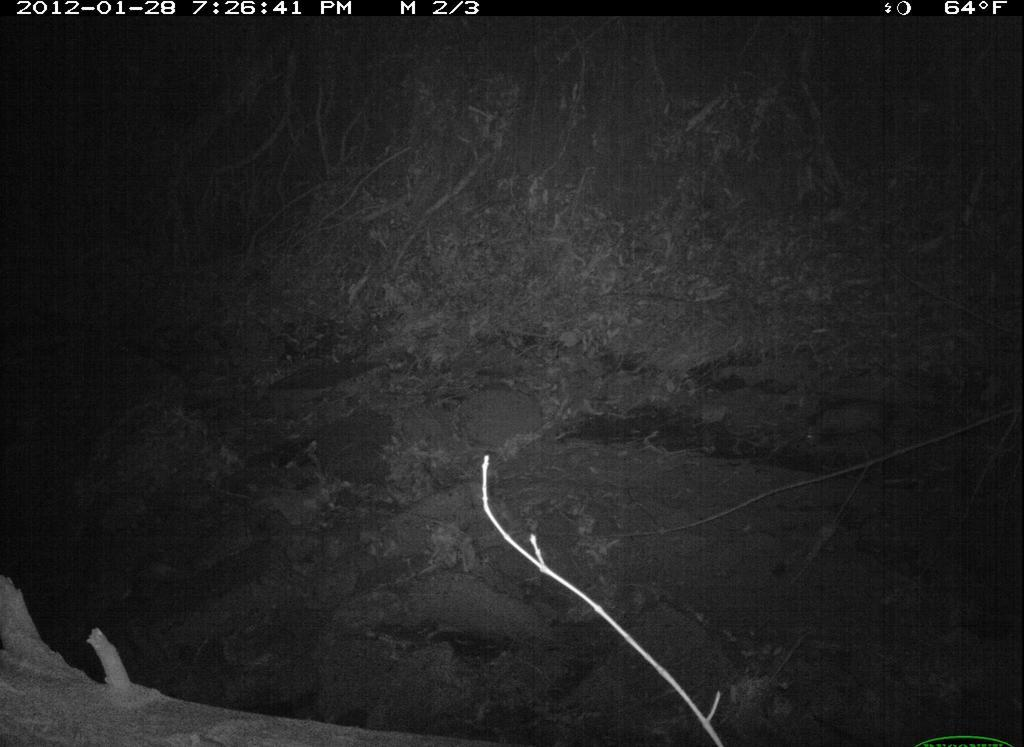opossum: (793, 391, 909, 455)
